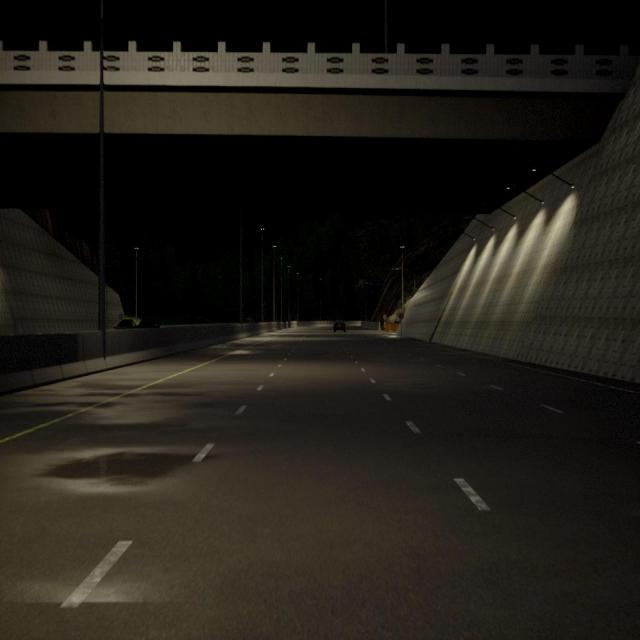Traffic_Signs: (399, 312, 404, 320), (382, 315, 387, 320)
Vehicle: (137, 317, 161, 328), (114, 320, 136, 330), (334, 320, 346, 333)
